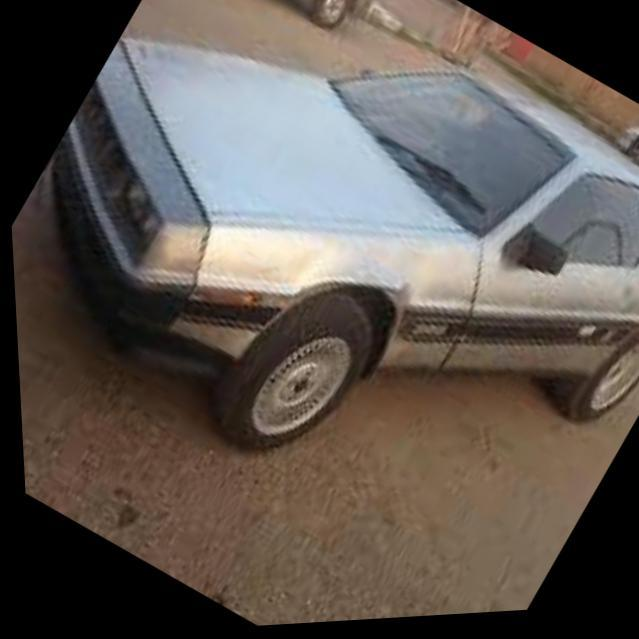rub: (276, 241, 407, 299)
